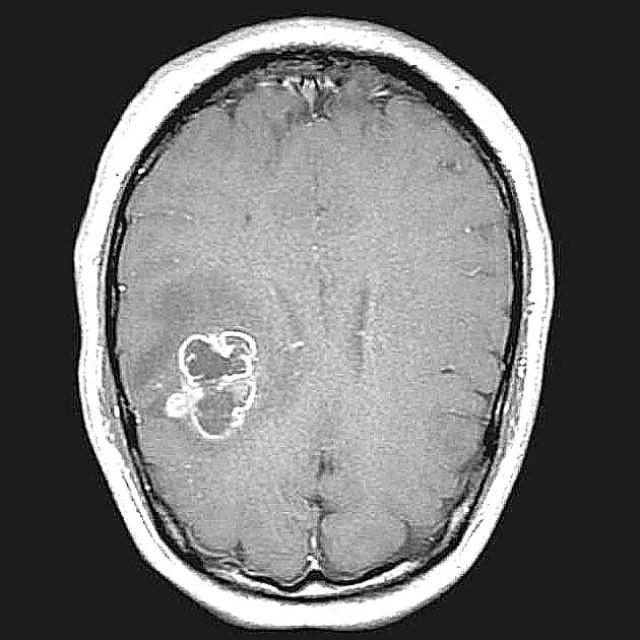Tumor-Cell: (155, 302, 274, 478)
